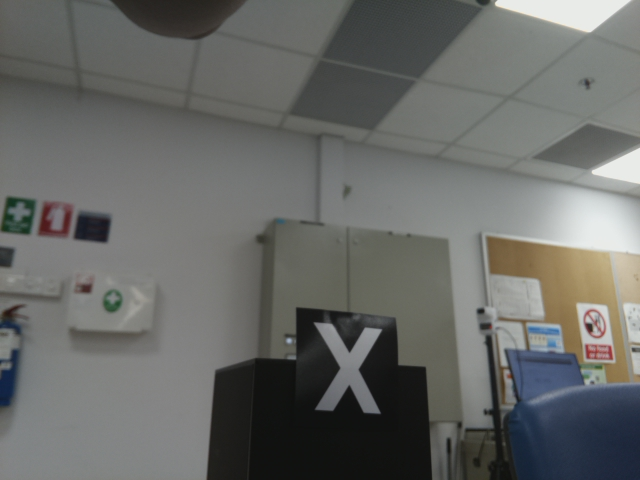x: (308, 316, 381, 422)
